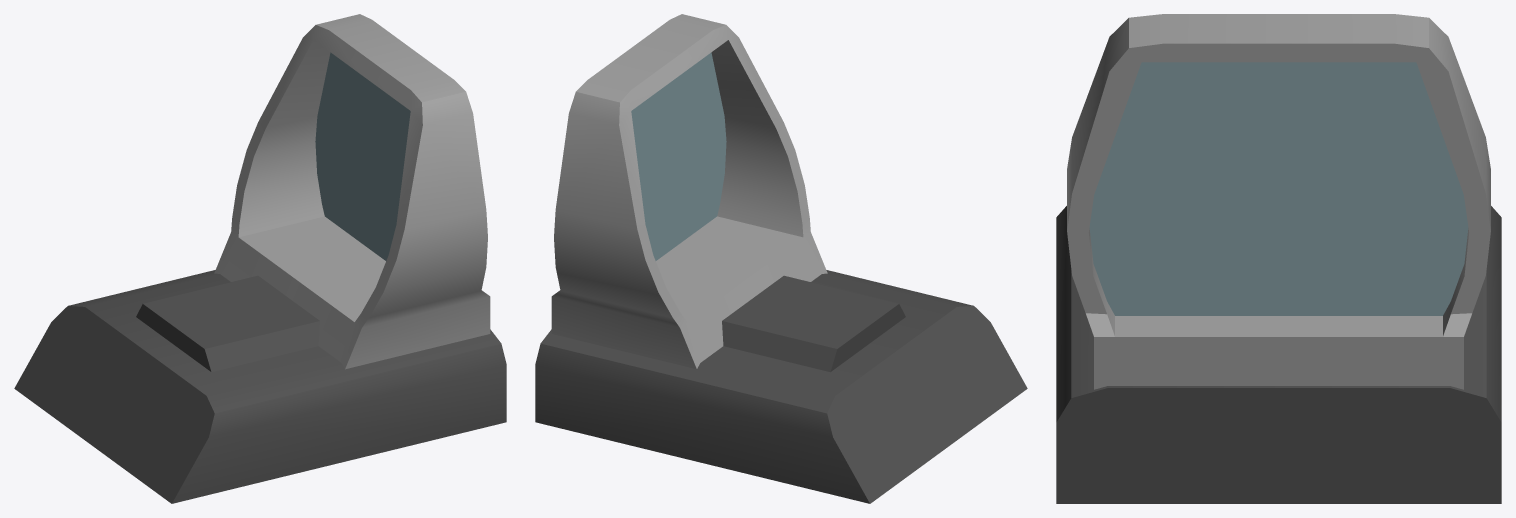
The model's file is Sight_3.glb.
3 renders of one model, left to right at view 1: azimuth 30°, elevation 25°; view 2: azimuth 150°, elevation 25°; view 3: azimuth 270°, elevation 25°, orthographic. The views are drawn at different scales.
Visible parts, largest first — view 1: Sight_3; view 2: Sight_3; view 3: Sight_3.
Part boxes in pixels (bbox=[...]): Sight_3: bbox=[14, 14, 506, 503]; Sight_3: bbox=[535, 14, 1027, 503]; Sight_3: bbox=[1056, 14, 1501, 503].
Size of the model in its own units: 0.1203 by 0.1093 by 0.098.
